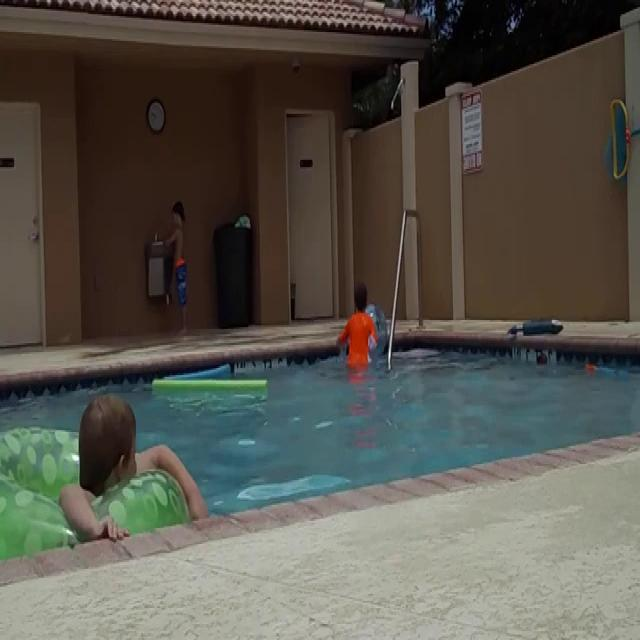child: (60, 397, 206, 543), (339, 288, 374, 376), (166, 198, 188, 334)
